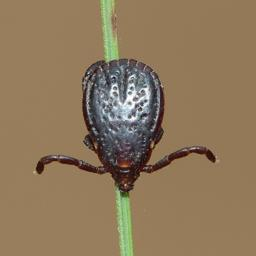Rhipicephalus sanguineus: (34, 58, 217, 195)
